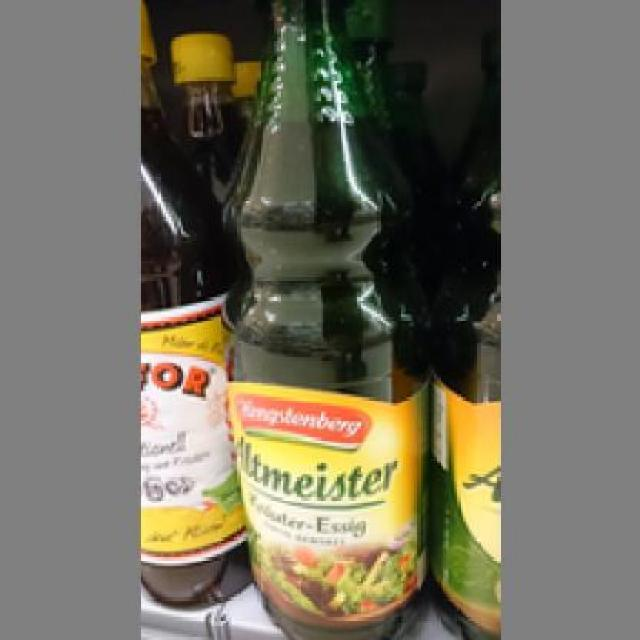Vinegar: (217, 0, 434, 637), (136, 0, 250, 606)
